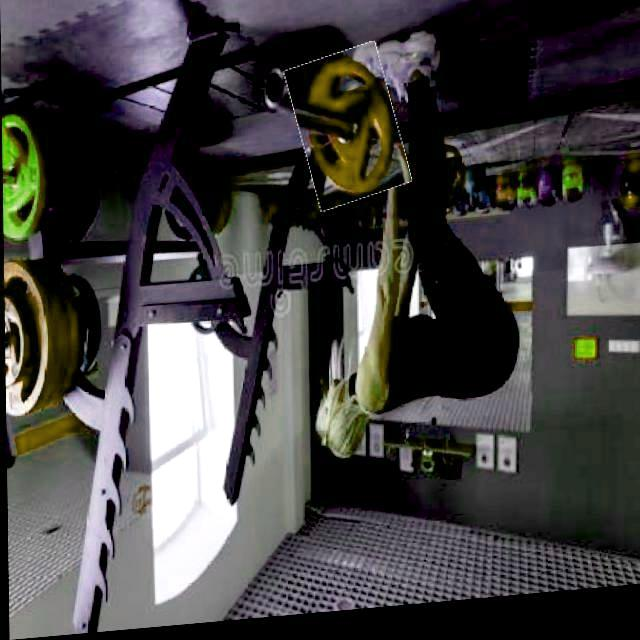barbell: (292, 51, 404, 216)
